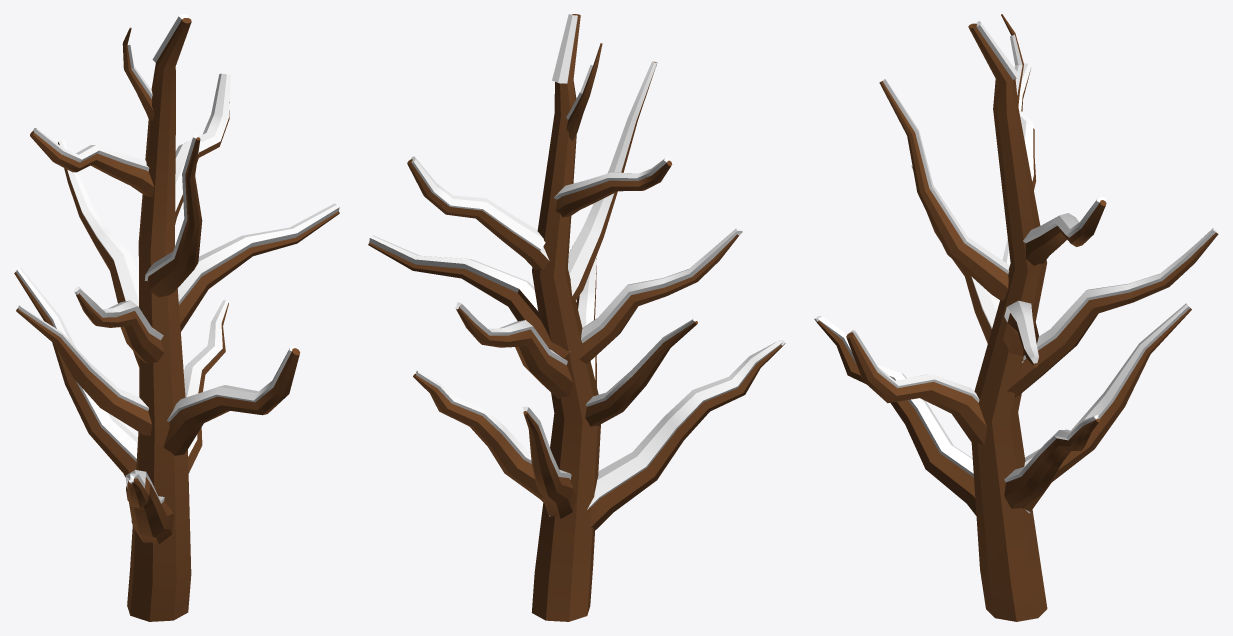
The model's file is DEAD TREE 2.fbx.
The picture shows the model from 3 angles, left to right: view 1: azimuth 30°, elevation 25°; view 2: azimuth 150°, elevation 25°; view 3: azimuth 270°, elevation 25°; orthographic projection. The views are drawn at different scales.
Visible parts, largest first — view 1: DEAD TREE 2; view 2: DEAD TREE 2; view 3: DEAD TREE 2.
Boxes of the visible parts, bbox=[...] form: DEAD TREE 2: bbox=[14, 14, 339, 621]; DEAD TREE 2: bbox=[368, 14, 785, 621]; DEAD TREE 2: bbox=[814, 14, 1218, 621].
Size of the model in its own units: 437 by 760 by 473.
